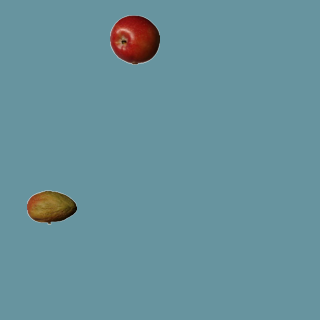Apple Braeburn: (109, 14, 159, 64)
Papaya: (26, 182, 76, 232)
